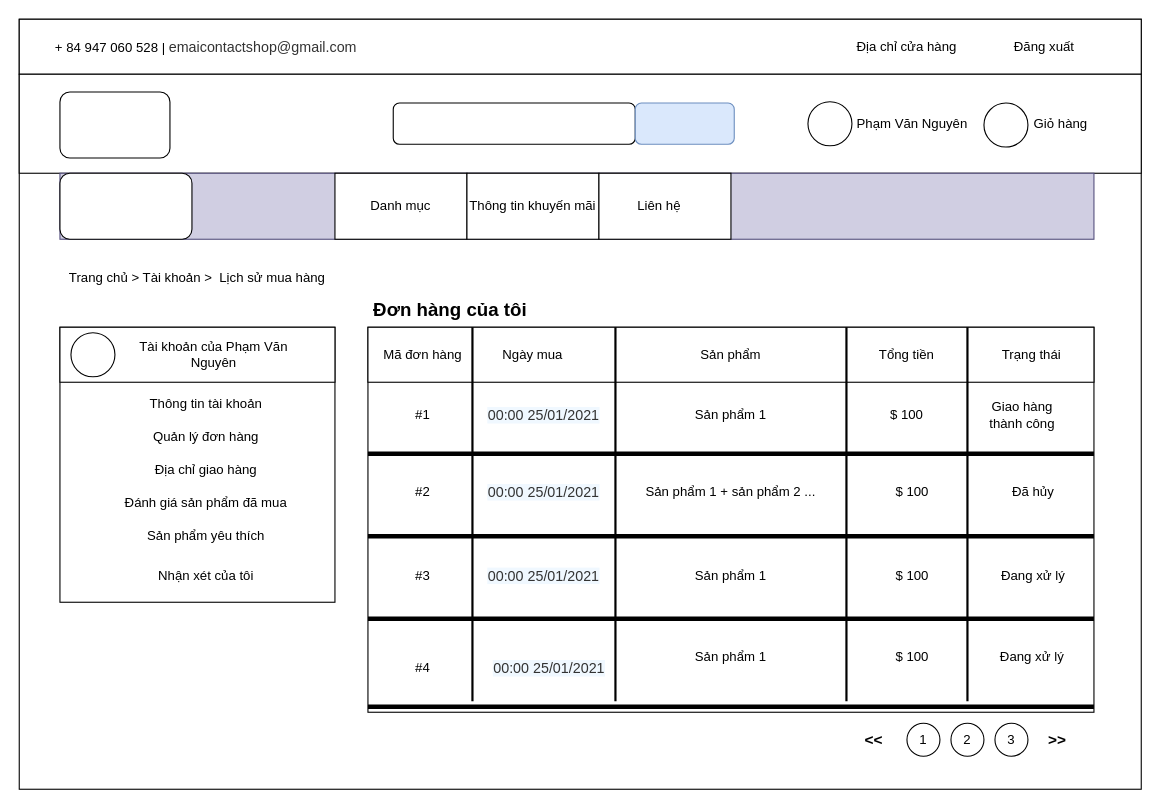
This 1161x809 diagram has some shape labels left out. The shapes that lost their labels are listed below. From the top down, each one's centre as x and y in pixels, then its label:
At pixel 114 124: "Logo shop".
At pixel 125 205: "Trang chủ".
